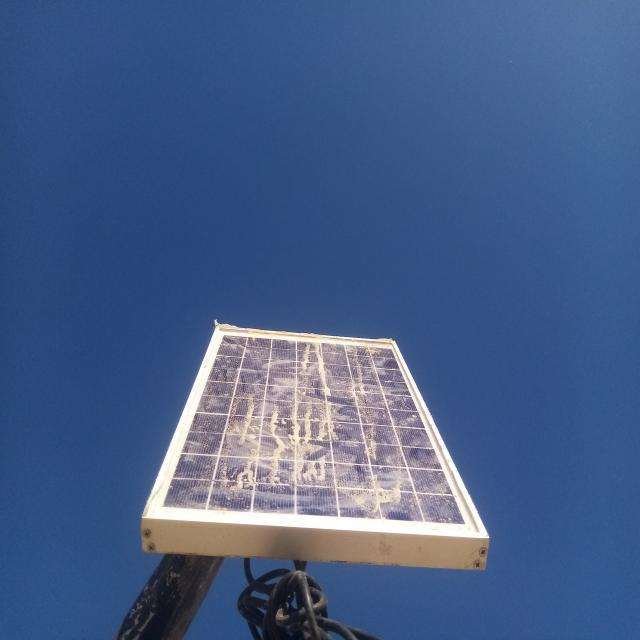faulty: (142, 323, 489, 538)
